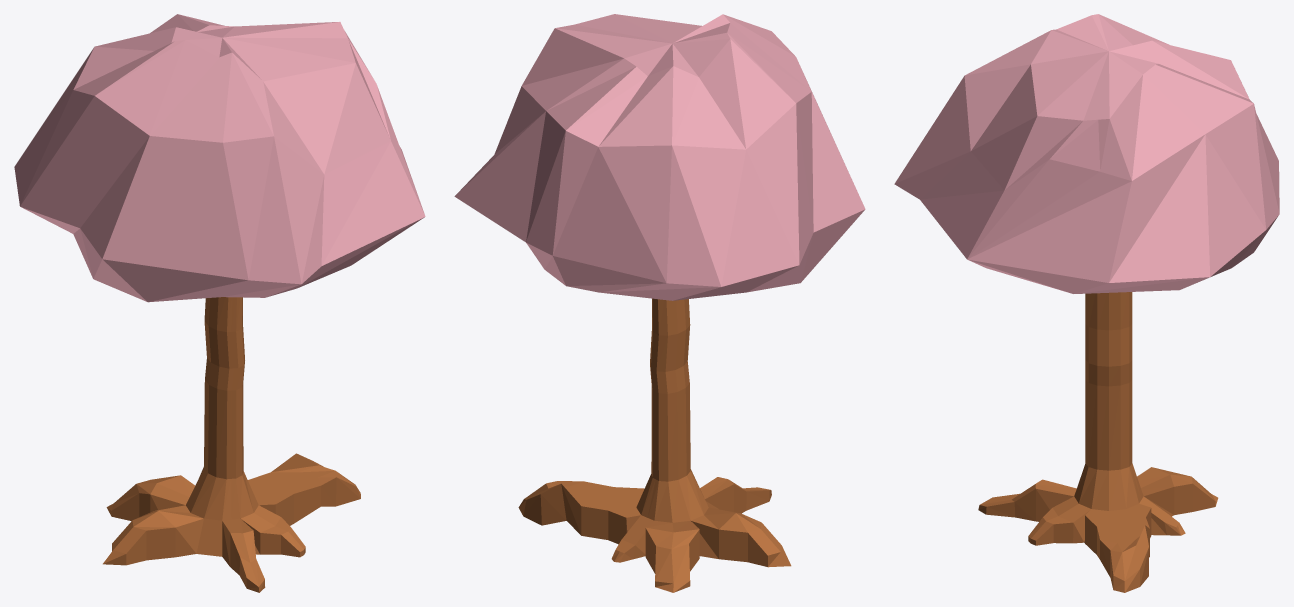
File: small sakura tree textured.fbx
The picture shows the model from 3 angles, left to right: view 1: azimuth 30°, elevation 25°; view 2: azimuth 150°, elevation 25°; view 3: azimuth 270°, elevation 25°; orthographic projection. The views are drawn at different scales.
Visible parts, largest first — view 1: pCylinder1; view 2: pCylinder1; view 3: pCylinder1.
Boxes of the visible parts, left/top/right/bottom form: pCylinder1: left=14, top=14, right=425, bottom=592; pCylinder1: left=454, top=14, right=865, bottom=592; pCylinder1: left=894, top=14, right=1279, bottom=592.
Bounding box in the file's own units: 10.32 × 14.67 × 10.5.
